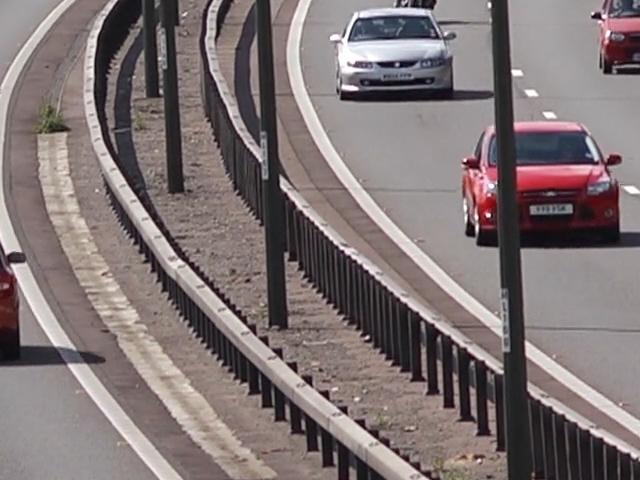car: (463, 115, 632, 255), (332, 3, 460, 100), (0, 216, 38, 361), (589, 0, 640, 76)
